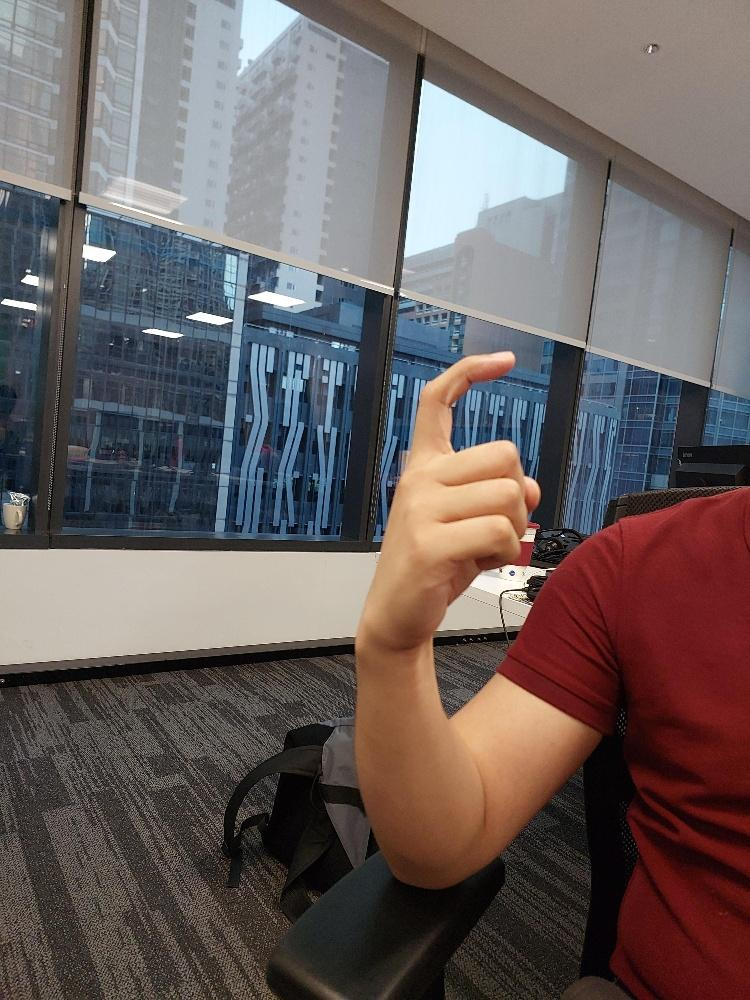x: (355, 346, 543, 653)
